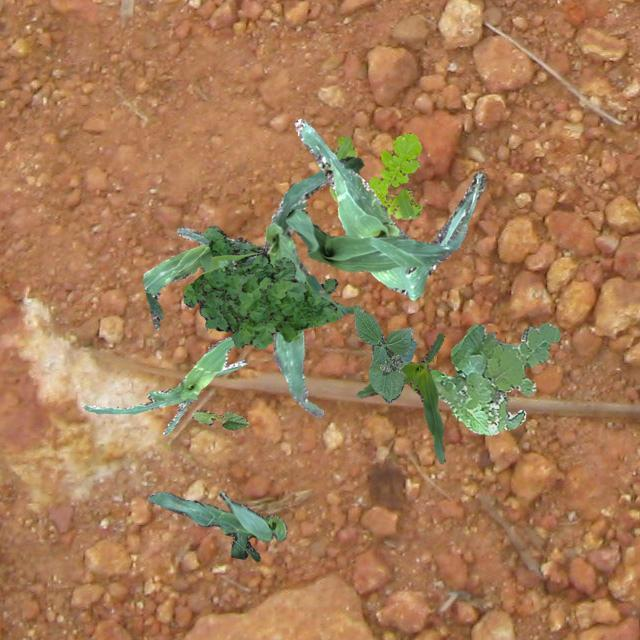crop: (294, 119, 486, 298), (264, 156, 362, 417), (82, 336, 246, 434), (142, 225, 266, 328), (284, 208, 466, 272), (356, 332, 444, 462), (147, 490, 286, 560), (353, 308, 417, 402), (192, 408, 248, 429)
weed: (182, 224, 362, 348), (428, 322, 560, 434), (328, 132, 421, 218)
